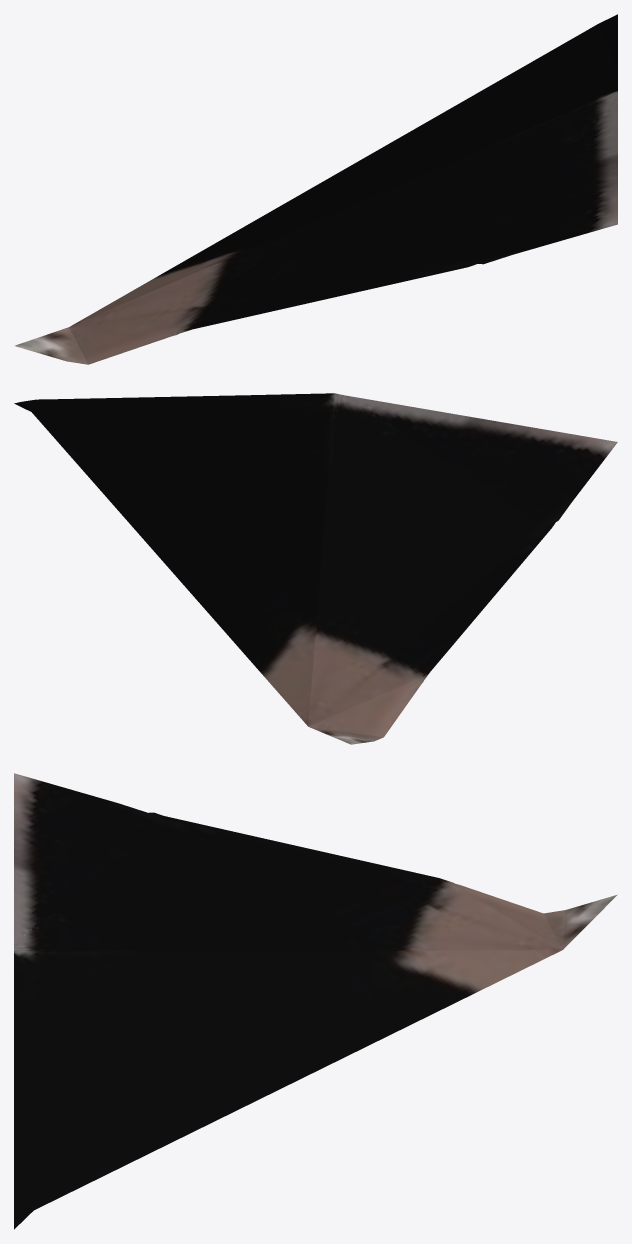
3 views of the same model, one above another, from view 1: azimuth 90°, elevation 25°; view 2: azimuth 150°, elevation 25°; view 3: azimuth 270°, elevation 25° (orthographic). The views are drawn at different scales.
Size of the model in its own units: 3.64 by 0.714 by 2.79.
Materials: 1 (1 with a texture image).
